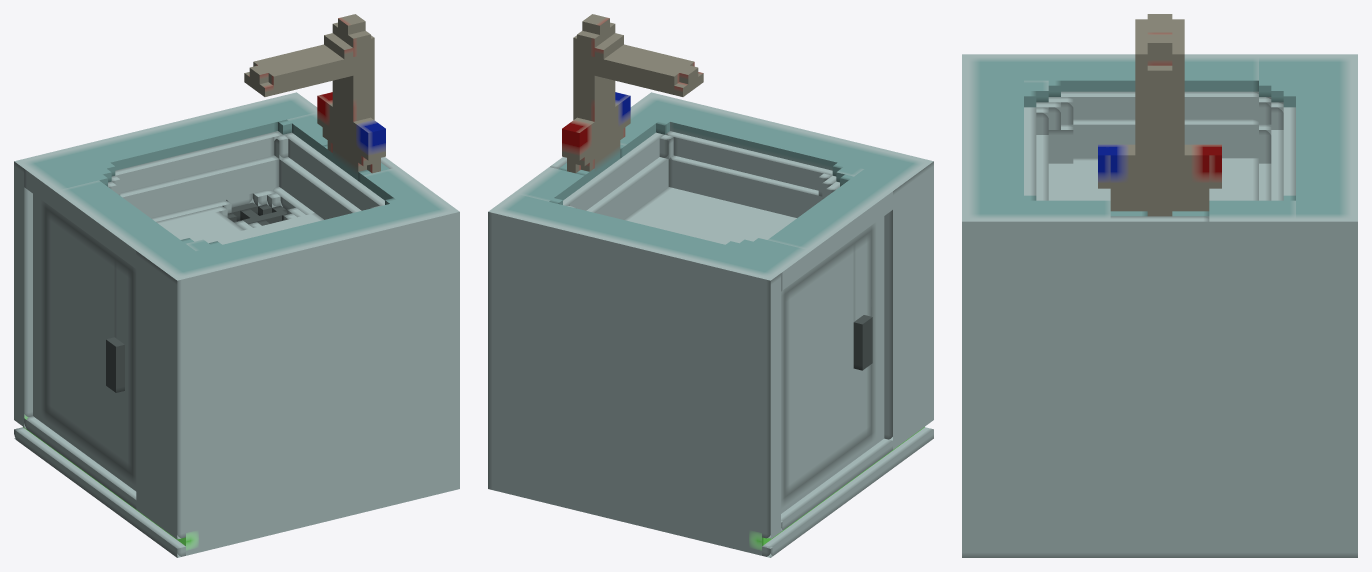
The model's file is kuchnia_szafki_04.dae.
The picture shows the model from 3 angles, left to right: view 1: azimuth 30°, elevation 25°; view 2: azimuth 150°, elevation 25°; view 3: azimuth 270°, elevation 25°; orthographic projection. The views are drawn at different scales.
Parts seen in each view (by area): view 1: Content; view 2: Content; view 3: Content.
Part boxes in pixels (x1,y1,x2,y2): Content: (14, 14, 459, 557); Content: (488, 14, 933, 557); Content: (962, 14, 1357, 557).
Bounding box in the file's own units: 32 × 45 × 32.
1 material, 1 textured.
